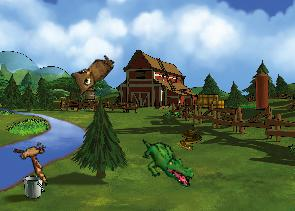crocodile: (133, 137, 200, 188)
eagle: (5, 132, 63, 186)
owl: (65, 45, 116, 98)
